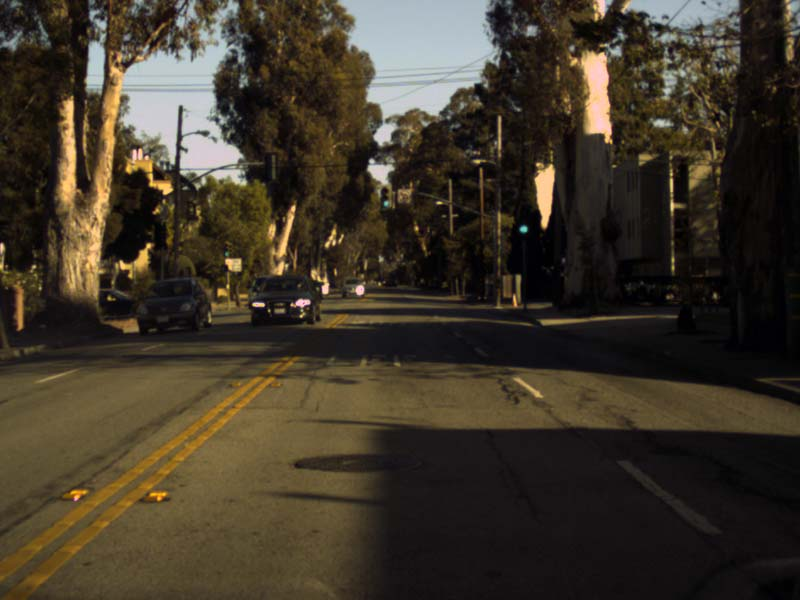Green: (515, 205, 530, 236), (378, 184, 391, 211)
